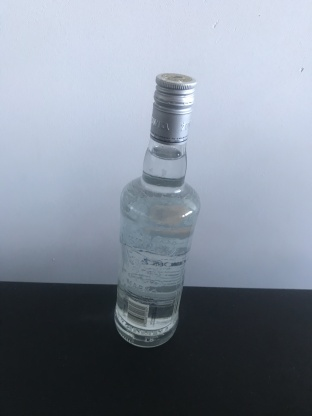nakretka: (148, 69, 197, 147)
